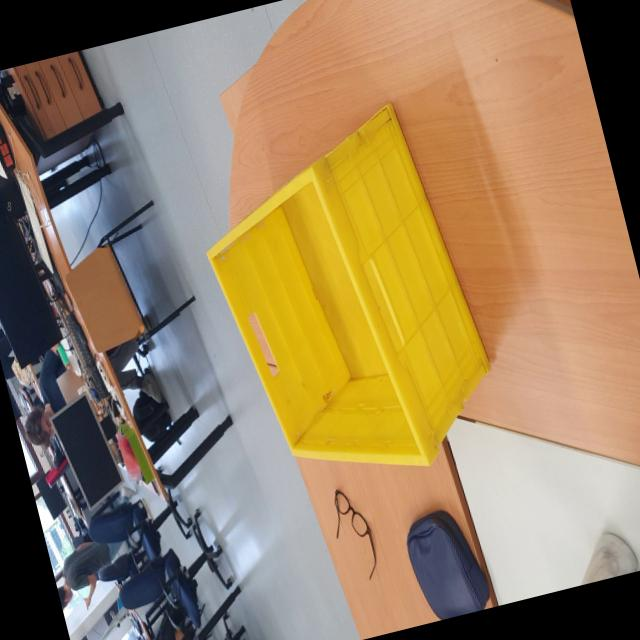box: (176, 84, 514, 507)
